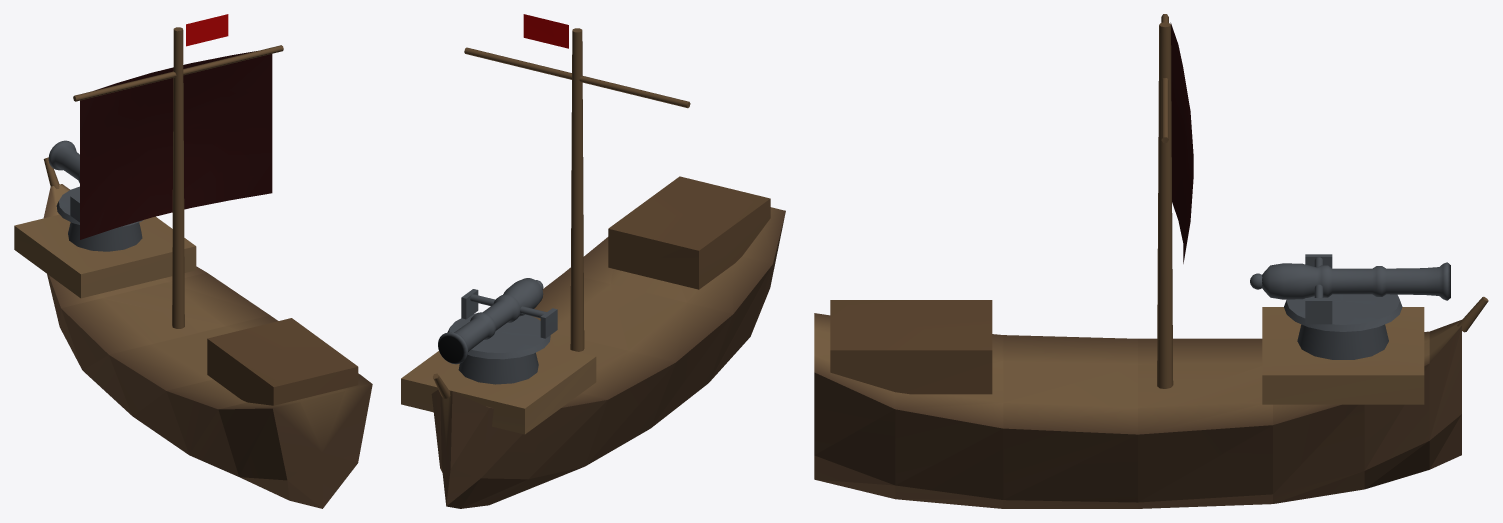
Rendered from pirate-ship-v2.glb.
3 views of the same model, side by side, from view 1: azimuth 30°, elevation 25°; view 2: azimuth 150°, elevation 25°; view 3: azimuth 270°, elevation 25° (orthographic). The views are drawn at different scales.
Visible parts, largest first — view 1: ship-hull, ship-barrel; view 2: ship-hull, ship-barrel; view 3: ship-hull, ship-barrel.
Part boxes in pixels (x1,y1,x2,y2): ship-hull: [14, 14, 372, 508]; ship-barrel: [48, 140, 143, 227]; ship-hull: [401, 14, 785, 508]; ship-barrel: [438, 278, 557, 364]; ship-hull: [814, 14, 1488, 508]; ship-barrel: [1250, 254, 1450, 331].
Size of the model in its own units: 0.54 by 0.9975 by 1.25.
